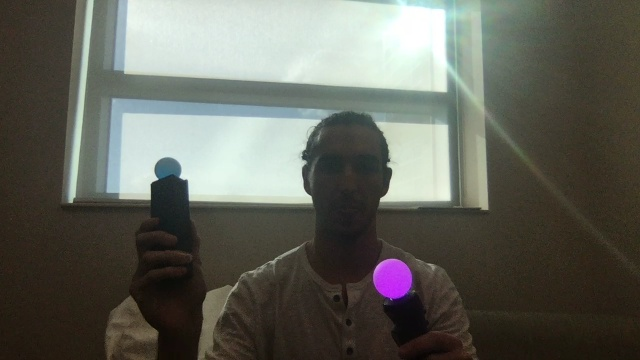wand: (373, 258, 412, 298), (154, 156, 182, 177)
